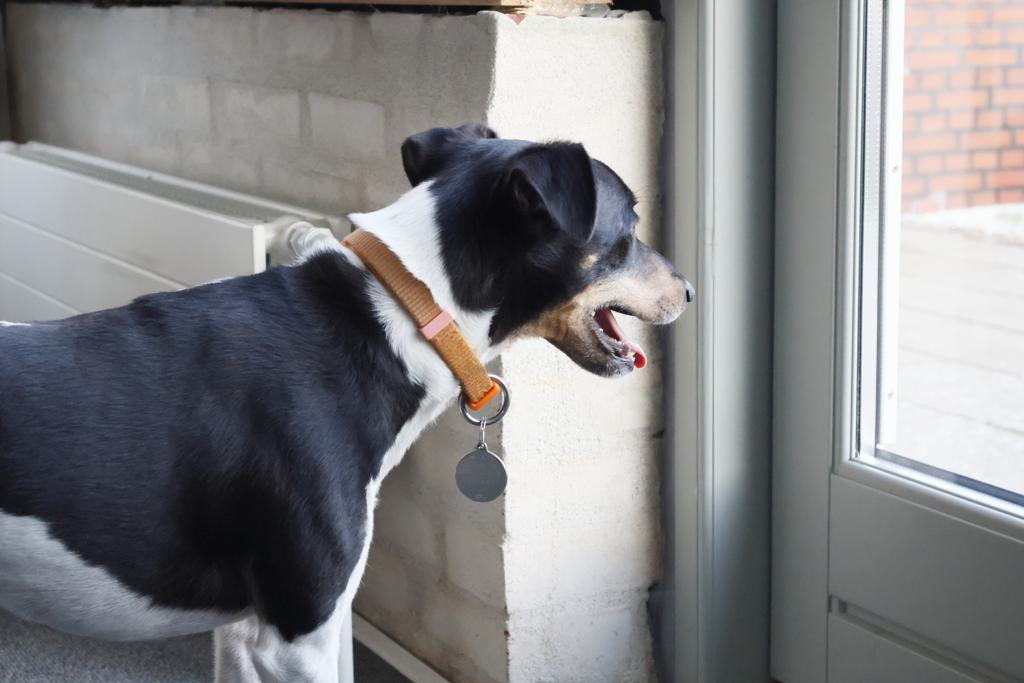Dog: (0, 113, 707, 683)
